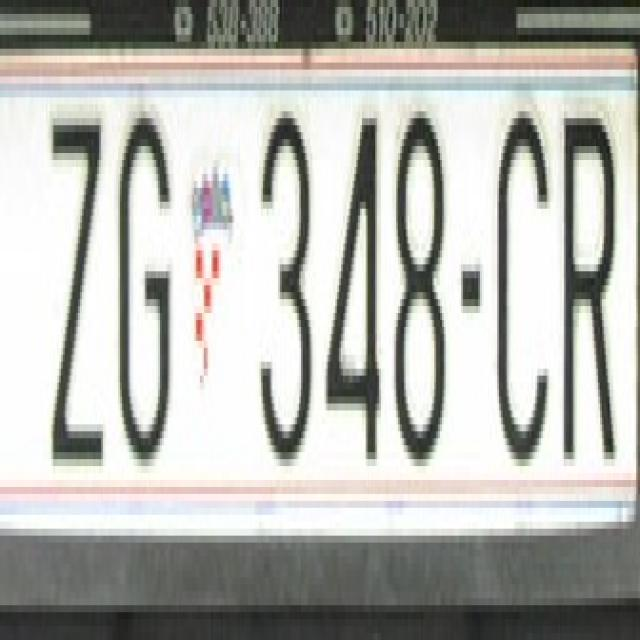3: (250, 97, 314, 480)
4: (320, 83, 383, 480)
8: (388, 104, 454, 480)
C: (490, 104, 554, 473)
G: (114, 104, 177, 487)
Z: (42, 97, 108, 487)
